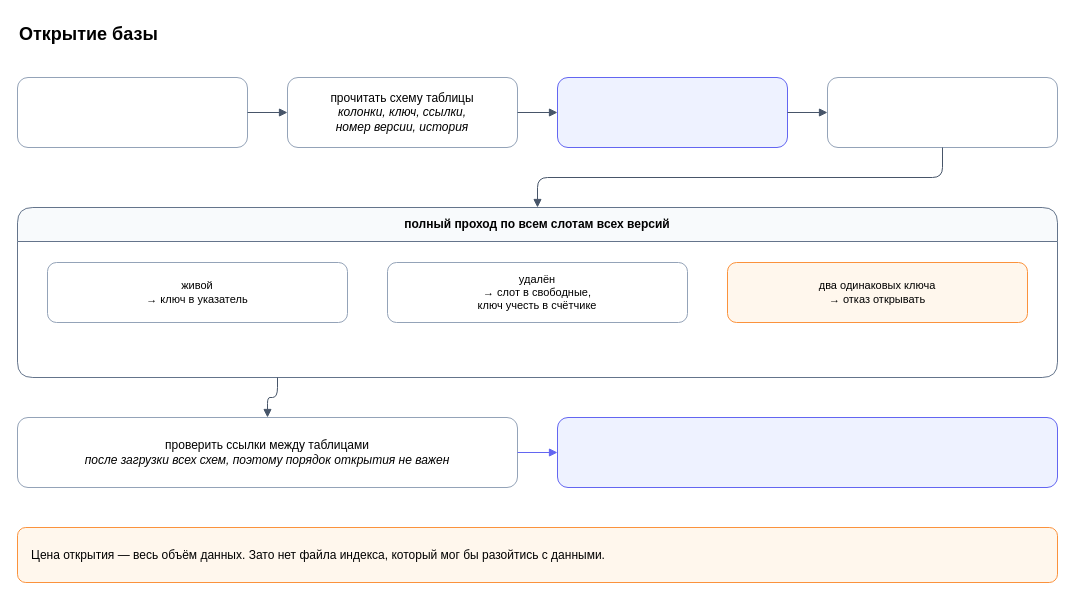
The diagram is 1075 pixels wide and 600 high, and some of its shapes have lost their labels. The shapes that lost their labels are listed below. From the top down, each one's box as (x1, y1, x2, y2) in pixels, then its label:
(16, 76, 248, 148): занять замок найти файлы схем
(556, 76, 788, 148): посчитать дескриптор на каждую версию
(826, 76, 1058, 148): открыть файлы версий последнюю на запись, прежние на чтение
(556, 416, 1058, 488): в памяти: схема · дескрипторы · указатель · свободные слоты · счётчик номеров
